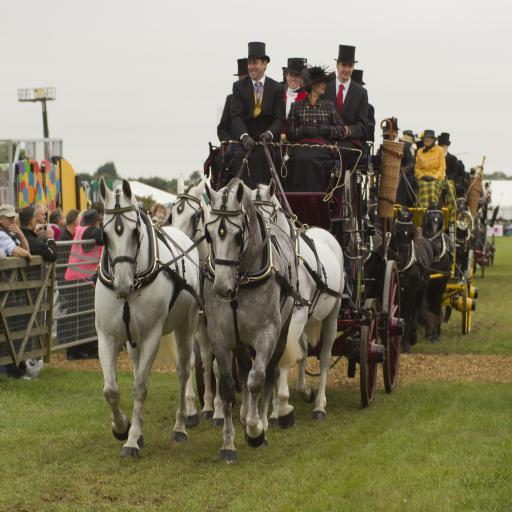Horse: (92, 173, 201, 459), (202, 181, 300, 461), (248, 178, 347, 428), (168, 172, 236, 430), (386, 208, 434, 354), (419, 195, 454, 340), (362, 226, 386, 310), (368, 198, 392, 236)
